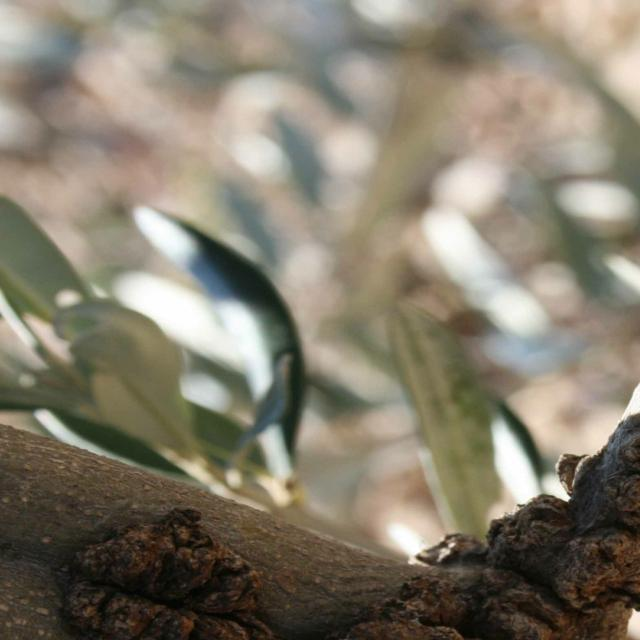Tuberculosis: (330, 412, 640, 640), (63, 508, 272, 640)
